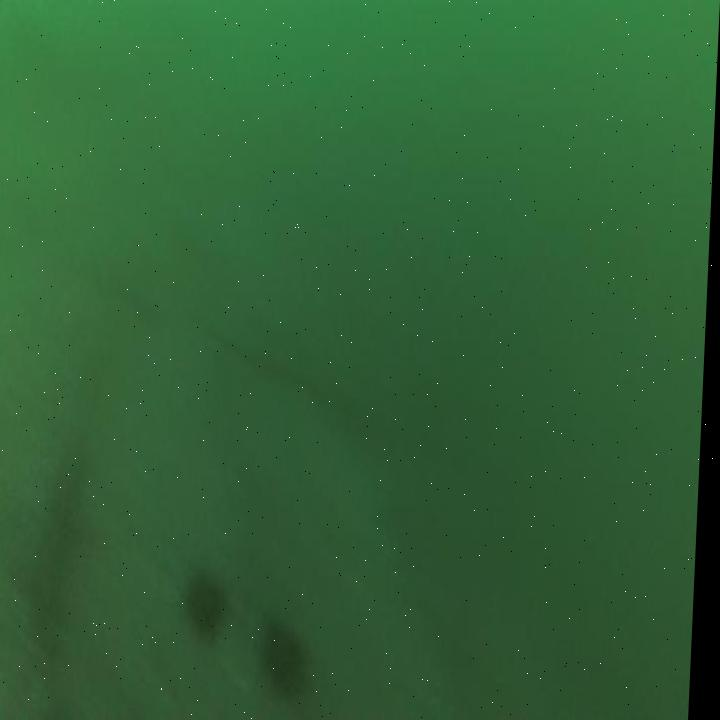echinus: (255, 604, 327, 718), (178, 560, 236, 649)
